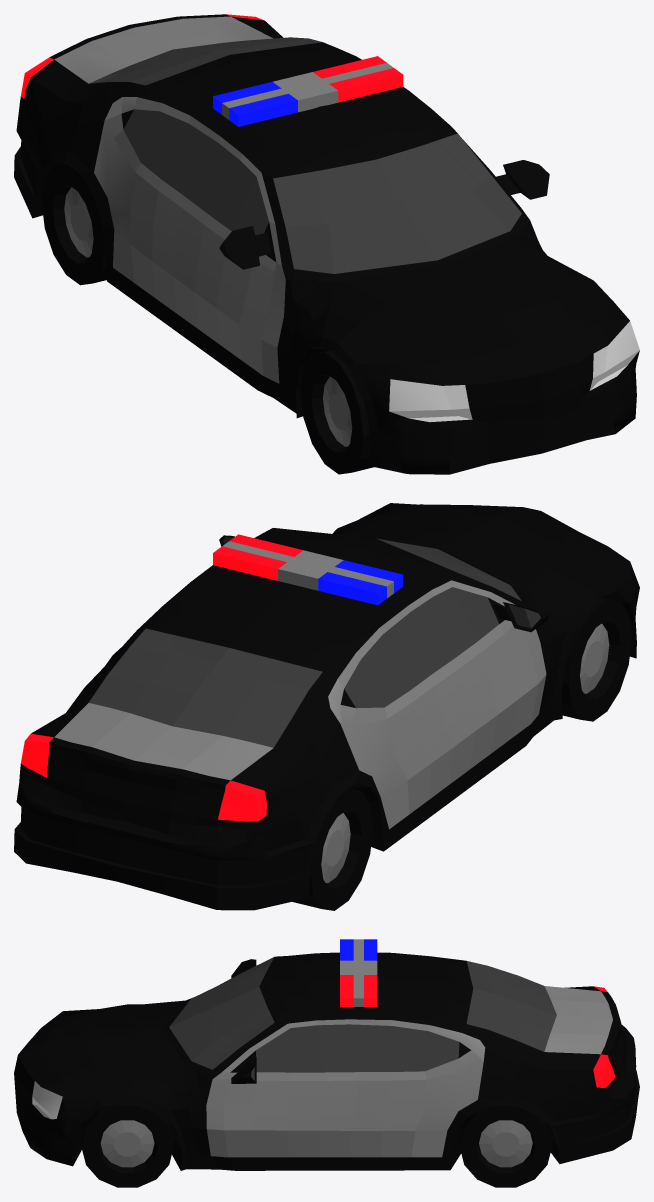
The model's file is Police.fbx.
The picture shows the model from 3 angles, top to bottom: view 1: azimuth 30°, elevation 25°; view 2: azimuth 150°, elevation 25°; view 3: azimuth 270°, elevation 25°; orthographic projection. The views are drawn at different scales.
Parts seen in each view (by area): view 1: Plane.001, Cube, Carju_0.027, Carju_0.028; view 2: Plane.001, Cube, Carju_0.027, Carju_0.028; view 3: Plane.001, Carju_0.025, Carju_0.026, Cube.
Boxes of the visible parts, bbox=[...] form: Plane.001: bbox=[14, 14, 639, 474]; Cube: bbox=[213, 56, 403, 126]; Carju_0.027: bbox=[300, 350, 374, 474]; Carju_0.028: bbox=[41, 162, 106, 285]; Plane.001: bbox=[14, 503, 639, 910]; Cube: bbox=[213, 534, 403, 605]; Carju_0.027: bbox=[562, 597, 631, 721]; Carju_0.028: bbox=[292, 788, 373, 910]; Plane.001: bbox=[14, 952, 639, 1170]; Carju_0.025: bbox=[81, 1102, 173, 1187]; Carju_0.026: bbox=[459, 1105, 551, 1187]; Cube: bbox=[340, 939, 377, 1006].
Size of the model in its own units: 267 by 185 by 609.
